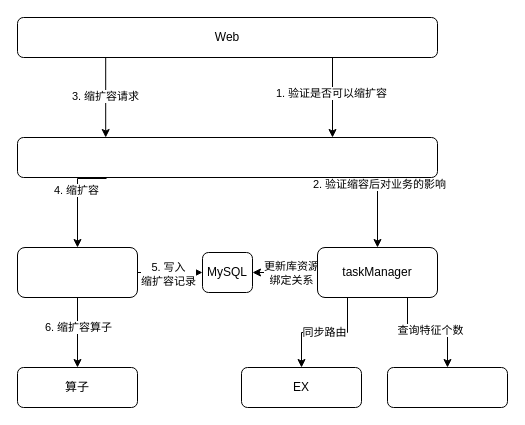
Some shapes in this 525 by 425 pixel diagram are drawn without their labels. Here are the shapes that lost their labels. From the top down, the centre of each, then its label:
At point 227,157: "mPlatForm".
At point 77,272: "resourceManager".
At point 447,387: "PF".
